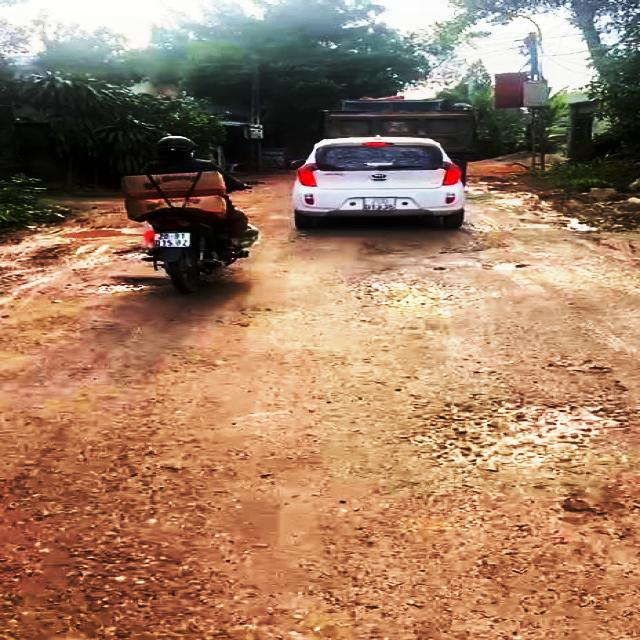pothole: (419, 390, 629, 462)
